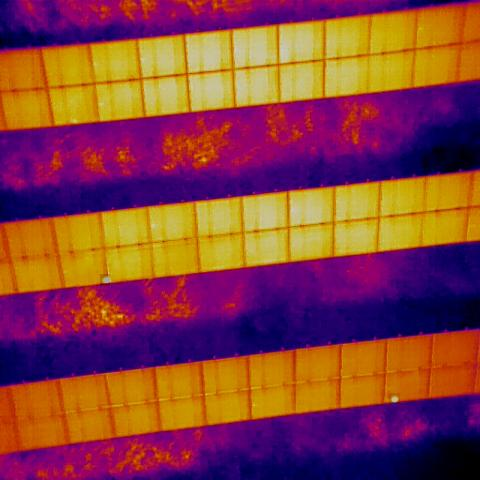fault: (100, 274, 110, 285), (389, 393, 400, 403)
